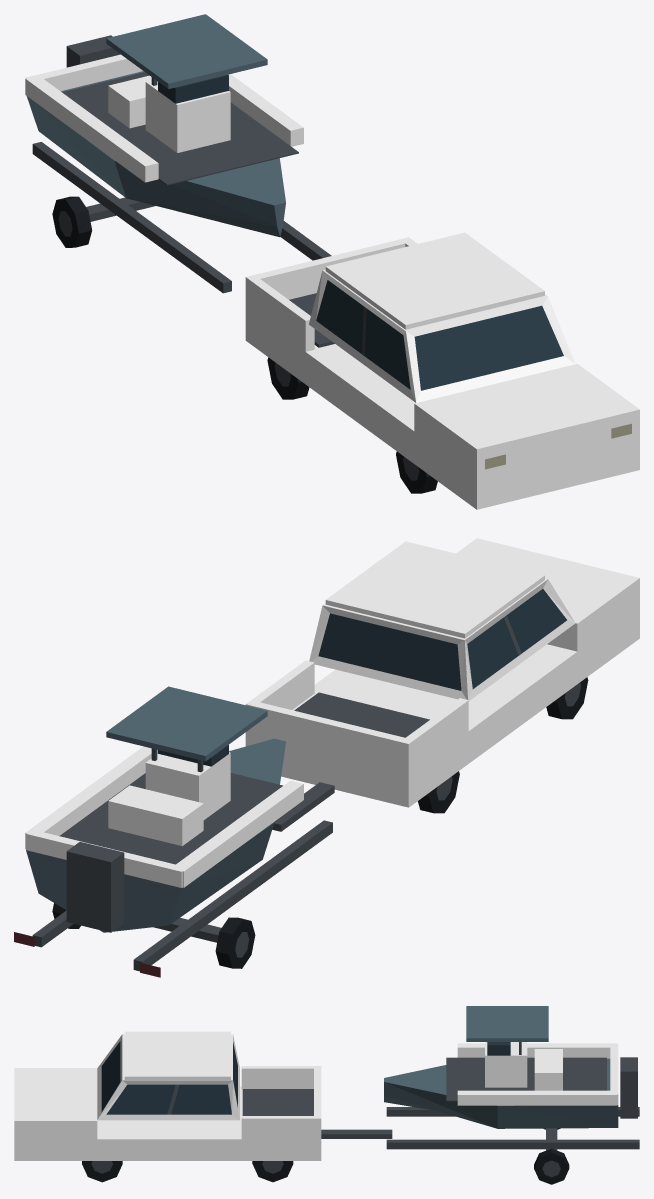
File: pickup-boat.glb
3 views of the same model, one above another, from view 1: azimuth 30°, elevation 25°; view 2: azimuth 150°, elevation 25°; view 3: azimuth 270°, elevation 25° (orthographic). The views are drawn at different scales.
Visible parts, largest first — view 1: vehicle_body; view 2: vehicle_body; view 3: vehicle_body.
Part boxes in pixels (x1=…): vehicle_body: x1=25, y1=14, x2=639, y2=509; vehicle_body: x1=14, y1=538, x2=639, y2=977; vehicle_body: x1=14, y1=1006, x2=639, y2=1184.
Bounding box in the file's own units: 2.38 × 2.6 × 11.01.
